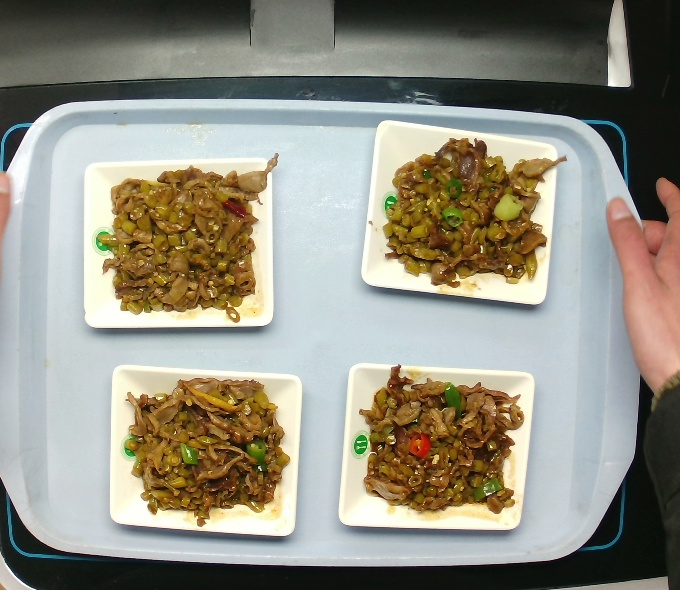wcq-JiZhen: (119, 377, 291, 545), (384, 137, 568, 289), (95, 166, 272, 323), (353, 364, 524, 515)
